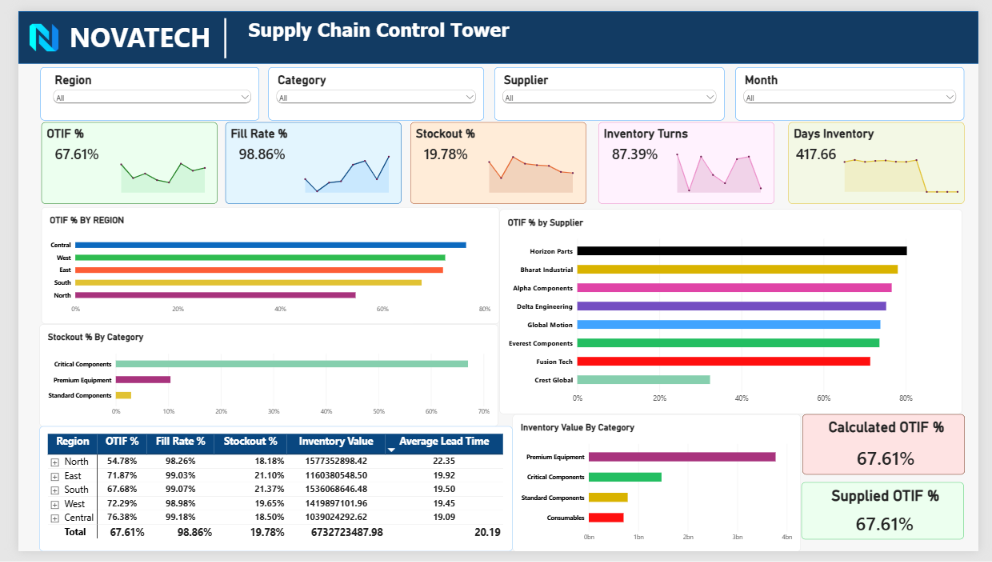

Layout of this report page (visuals, bound fields, positions):
{"tool":"powerbi","page":{"name":"Page 1","canvas":[1920,1080],"ordinal":0},"visuals":[{"type":"shape","box":[0,0,1920.4,105],"z":0},{"type":"image","box":[22.7,9.3,58.7,85.3],"z":1000},{"type":"textbox","box":[102.2,13.3,342.2,91.1],"z":2000},{"type":"shape","box":[6.7,13.3,815.6,80],"z":3000},{"type":"textbox","box":[460,13.3,940,151.1],"z":4000},{"type":"slicer","fields":{"Values":["NovaTech_Supply_Chain.Region"]},"box":[44.5,112.1,437.8,106.7],"z":5000},{"type":"slicer","fields":{"Values":["NovaTech_Supply_Chain.Category"]},"box":[500.5,112.1,431.1,106.7],"z":6000},{"type":"slicer","fields":{"Values":["NovaTech_Supply_Chain.Supplier"]},"box":[951.6,112.1,460,106.7],"z":7000},{"type":"slicer","fields":{"Values":["NovaTech_Supply_Chain.Month"]},"box":[1433.8,112.1,457.8,106.7],"z":8000},{"type":"cardVisual","title":"Days Inventory","fields":{"Data":["KPI 7-Days Inventory.Days Inventory"]},"box":[1539.1,222.2,351.9,163],"z":9000},{"type":"lineChart","fields":{"Category":["NovaTech_Supply_Chain.Month.Variation.Date Hierarchy.Month"],"Y":["KPI 7-Days Inventory.Days Inventory"]},"box":[1644.7,264.8,242.6,100],"z":10000},{"type":"clusteredBarChart","title":"OTIF % BY REGION","fields":{"Category":["NovaTech_Supply_Chain.Region"],"Y":["KPI 1 -OTIF.OTIF %"]},"box":[45.2,392.7,915.7,233.4],"z":11000},{"type":"clusteredBarChart","fields":{"Category":["NovaTech_Supply_Chain.Supplier"],"Y":["KPI 1 -OTIF.OTIF %"]},"box":[961.1,396.3,925.9,409.3],"z":12000},{"type":"clusteredBarChart","title":"Stockout % By Category","fields":{"Category":["NovaTech_Supply_Chain.Category"],"Y":["KPI 3 -Stockout%.Stockout %"]},"box":[41.6,626.1,917.5,204.5],"z":13000},{"type":"clusteredBarChart","title":"Inventory Value By Category","fields":{"Category":["NovaTech_Supply_Chain.Category"],"Y":["KPI 6 — Inventory Turns (2).Inventory Value"]},"box":[988.5,805.8,576.9,275],"z":14000},{"type":"cardVisual","title":"Inventory Turns","fields":{"Data":["KPI 6 — Inventory Turns (2).Inventory Turns"]},"box":[1159.3,222.2,351.9,163],"z":15000},{"type":"lineChart","fields":{"Category":["NovaTech_Supply_Chain.Month.Variation.Date Hierarchy.Month"],"Y":["KPI 6 — Inventory Turns (2).Inventory Turns"]},"box":[1308.4,275.1,186.4,86.9],"z":16000},{"type":"cardVisual","title":"Stockout %","fields":{"Data":["KPI 3 -Stockout%.Stockout %"]},"box":[783.6,222.6,351.9,163],"z":17000},{"type":"lineChart","fields":{"Category":["NovaTech_Supply_Chain.Month.Variation.Date Hierarchy.Month"],"Y":["KPI 3 -Stockout%.Stockout %"]},"box":[932,276.9,186.4,86.9],"z":18000},{"type":"cardVisual","title":"Fill Rate %","fields":{"Data":["KPI 2-Fill Rate.Fill Rate %"]},"box":[414.4,222.6,351.9,163],"z":19000},{"type":"cardVisual","title":"OTIF %","fields":{"Data":["KPI 1 -OTIF.OTIF %"]},"box":[45.2,222.6,351.9,163],"z":20000},{"type":"lineChart","fields":{"Category":["NovaTech_Supply_Chain.Month.Variation.Date Hierarchy.Month"],"Y":["KPI 2-Fill Rate.Fill Rate %"]},"box":[564.6,275.1,186.4,86.9],"z":21000},{"type":"lineChart","fields":{"Category":["NovaTech_Supply_Chain.Month.Variation.Date Hierarchy.Month"],"Y":["KPI 1 -OTIF.OTIF %"]},"box":[195.4,276.9,186.4,86.9],"z":22000},{"type":"pivotTable","fields":{"Rows":["NovaTech_Supply_Chain.Region","NovaTech_Supply_Chain.Category","NovaTech_Supply_Chain.Supplier"],"Values":["KPI 1 -OTIF.OTIF %","KPI 2-Fill Rate.Fill Rate %","KPI 3 -Stockout%.Stockout %","KPI 6 — Inventory Turns (2).Inventory Value","KPI 8.Average Lead Time"]},"box":[42.3,830.8,946.2,250],"z":23000},{"type":"cardVisual","title":"Calculated OTIF %","fields":{"Data":["KPI 1 -OTIF.OTIF %"]},"box":[1567.3,806.1,324.5,120.4],"z":23001},{"type":"cardVisual","title":"Supplied OTIF %","fields":{"Data":["KPI 1 -OTIF.OTIF %"]},"box":[1565.3,942.9,324.5,114.3],"z":23002}]}

Visuals, with their boxes in screenshot pixels (x1, y1, x2, y2), scaled from the page's 1920x1080 canvas onto the 992x562 screenshot:
shape: select_region(0, 0, 991, 55)
image: select_region(12, 5, 42, 49)
textbox: select_region(53, 7, 230, 54)
shape: select_region(3, 7, 425, 49)
textbox: select_region(238, 7, 723, 86)
slicer - NovaTech_Supply_Chain.Region: select_region(23, 58, 249, 114)
slicer - NovaTech_Supply_Chain.Category: select_region(259, 58, 481, 114)
slicer - NovaTech_Supply_Chain.Supplier: select_region(492, 58, 729, 114)
slicer - NovaTech_Supply_Chain.Month: select_region(741, 58, 977, 114)
"Days Inventory" cardVisual: select_region(795, 116, 977, 200)
lineChart - NovaTech_Supply_Chain.Month.Variation.Date Hierarchy.Month x KPI 7-Days Inventory.Days Inventory: select_region(850, 138, 975, 190)
"OTIF % BY REGION" clusteredBarChart: select_region(23, 204, 496, 326)
clusteredBarChart - NovaTech_Supply_Chain.Supplier x KPI 1 -OTIF.OTIF %: select_region(497, 206, 975, 419)
"Stockout % By Category" clusteredBarChart: select_region(21, 326, 496, 432)
"Inventory Value By Category" clusteredBarChart: select_region(511, 419, 809, 561)
"Inventory Turns" cardVisual: select_region(599, 116, 781, 200)
lineChart - NovaTech_Supply_Chain.Month.Variation.Date Hierarchy.Month x KPI 6 — Inventory Turns (2).Inventory Turns: select_region(676, 143, 772, 188)
"Stockout %" cardVisual: select_region(405, 116, 587, 201)
lineChart - NovaTech_Supply_Chain.Month.Variation.Date Hierarchy.Month x KPI 3 -Stockout%.Stockout %: select_region(482, 144, 578, 189)
"Fill Rate %" cardVisual: select_region(214, 116, 396, 201)
"OTIF %" cardVisual: select_region(23, 116, 205, 201)
lineChart - NovaTech_Supply_Chain.Month.Variation.Date Hierarchy.Month x KPI 2-Fill Rate.Fill Rate %: select_region(292, 143, 388, 188)
lineChart - NovaTech_Supply_Chain.Month.Variation.Date Hierarchy.Month x KPI 1 -OTIF.OTIF %: select_region(101, 144, 197, 189)
pivotTable - NovaTech_Supply_Chain.Region x NovaTech_Supply_Chain.Category: select_region(22, 432, 511, 561)
"Calculated OTIF %" cardVisual: select_region(810, 419, 977, 482)
"Supplied OTIF %" cardVisual: select_region(809, 491, 976, 550)
